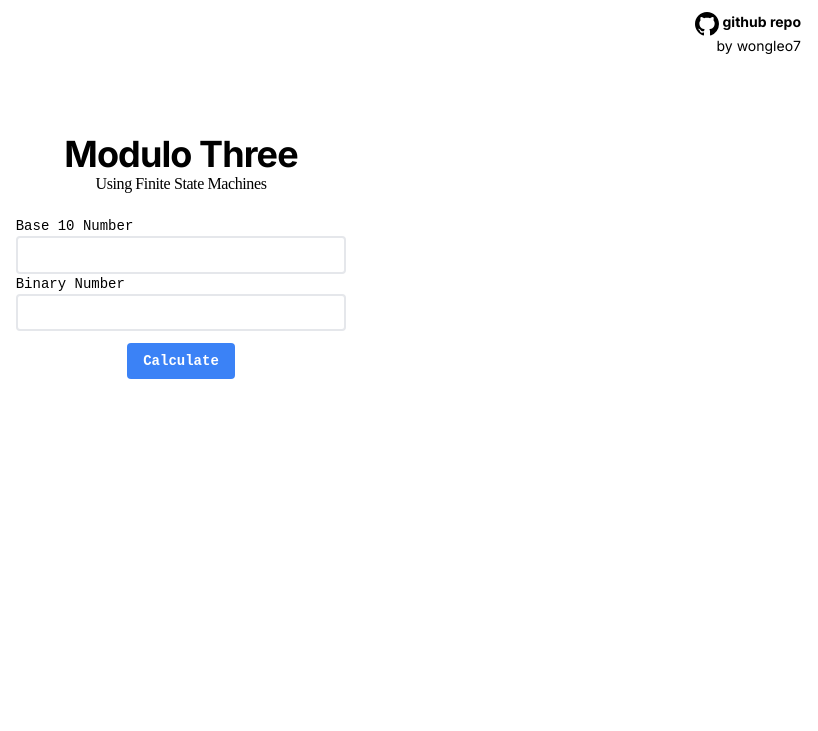
Test: tests calculations on binary
The width and height of the screenshot is (818, 731).
Type "110111" into the number field with id "binary-input" at point(182, 313), box top-left (16, 294), bottom-right (347, 332)
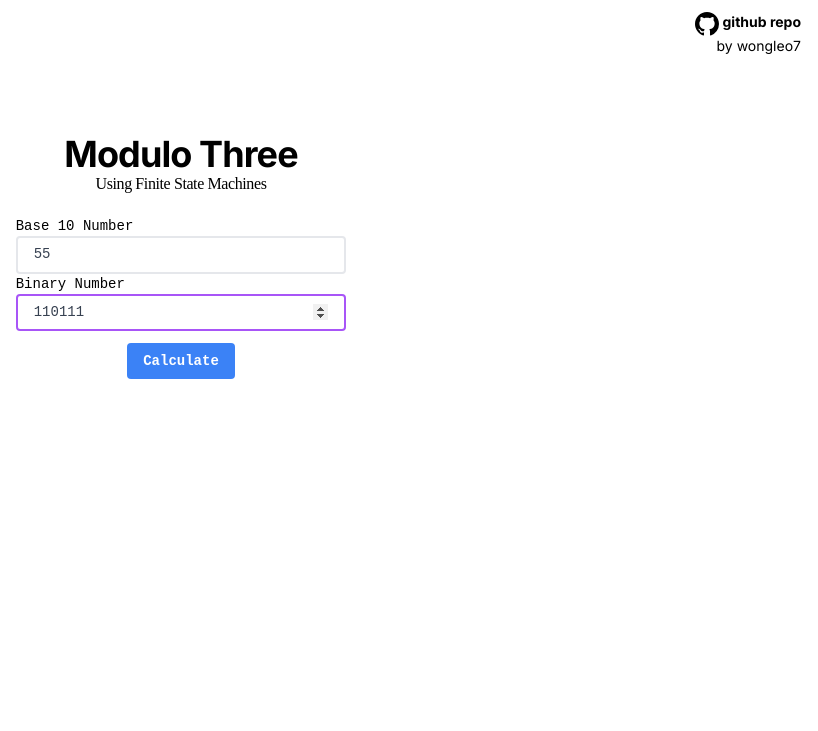
Click the button with id "submit-button" at point(181, 361), box top-left (127, 343), bottom-right (235, 379)
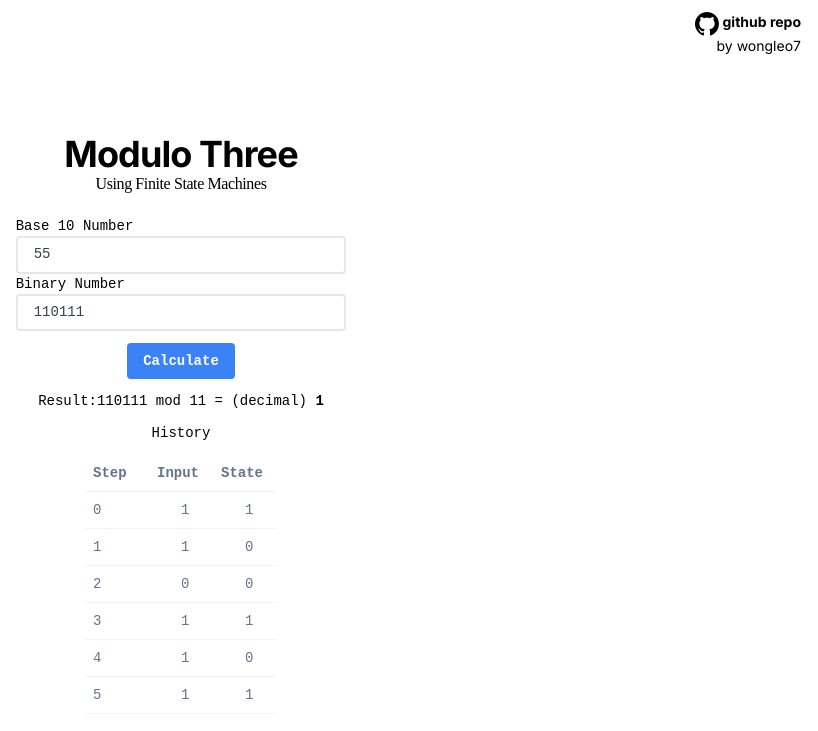
Now the text with id "remainder" reads "1", box top-left (315, 393), bottom-right (323, 409)
